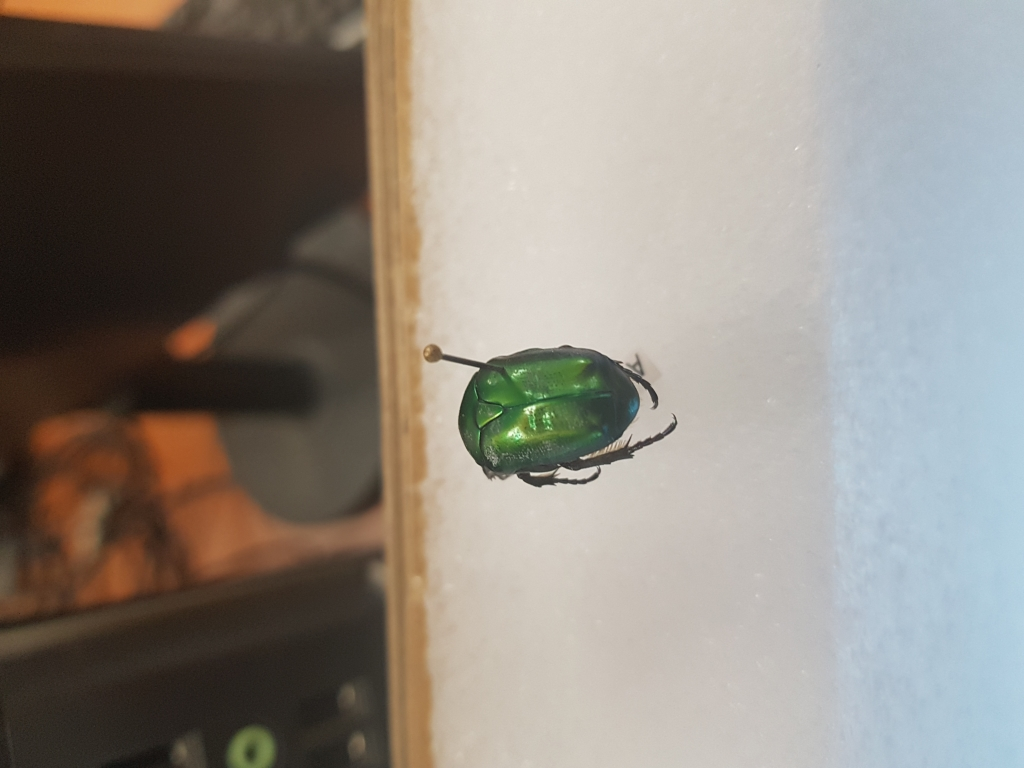Protaetia_cuprea_ignicollis: (453, 342, 681, 485)
